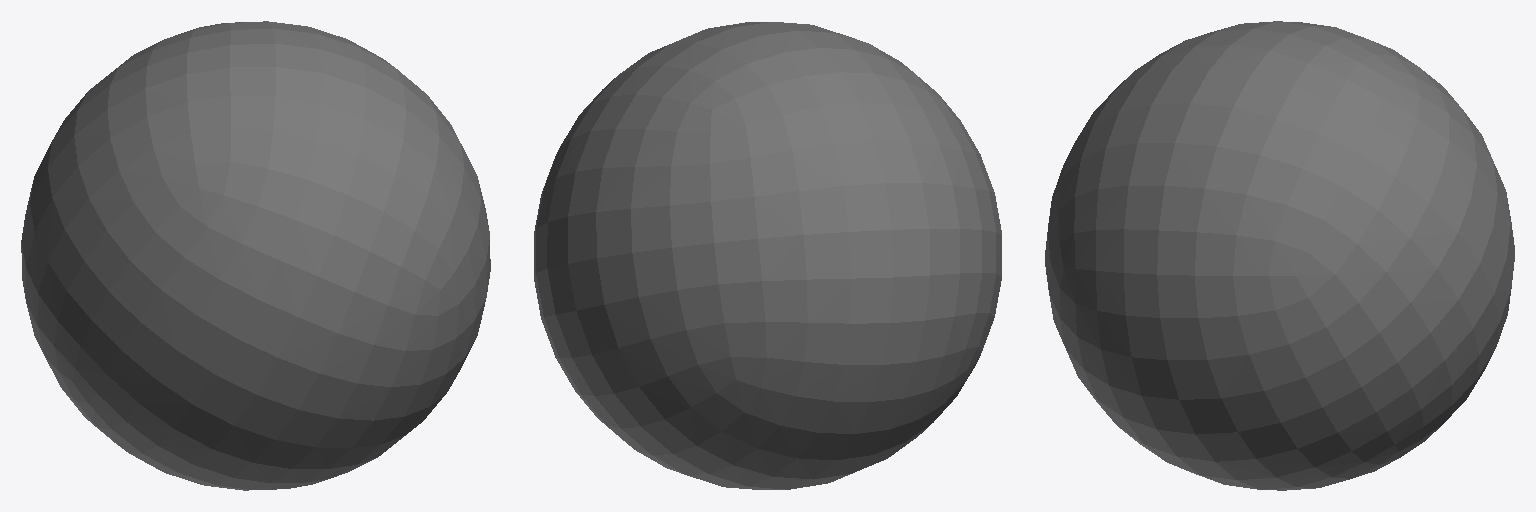
Rendered from Moon.obj.
3 views of the same model, side by side, from view 1: azimuth 30°, elevation 25°; view 2: azimuth 150°, elevation 25°; view 3: azimuth 270°, elevation 25° (orthographic).
Visible parts, largest first — view 1: Moon_Cube.002; view 2: Moon_Cube.002; view 3: Moon_Cube.002.
Boxes of the visible parts, <box> form: Moon_Cube.002: <box>21,21,490,490</box>; Moon_Cube.002: <box>534,22,1001,489</box>; Moon_Cube.002: <box>1045,21,1514,490</box>.
Bounding box in the file's own units: 3.48 × 3.48 × 3.49.